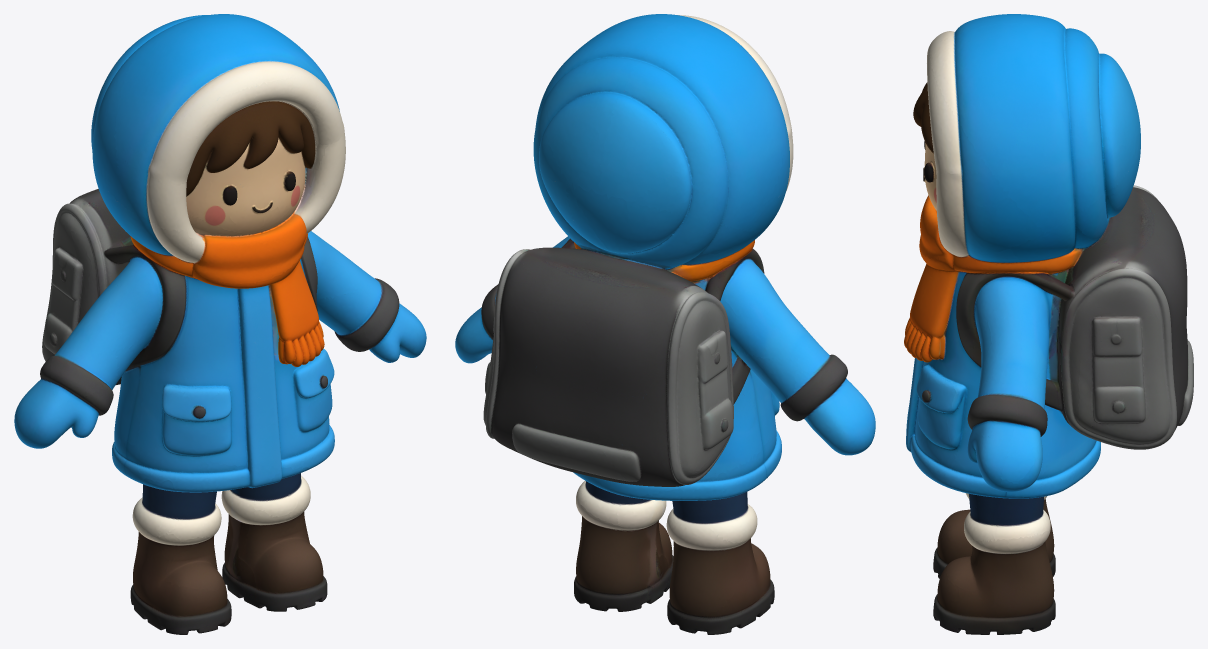
File: character_model.glb
The picture shows the model from 3 angles, left to right: view 1: azimuth 30°, elevation 25°; view 2: azimuth 150°, elevation 25°; view 3: azimuth 270°, elevation 25°; orthographic projection. The views are drawn at different scales.
Bounding box in the file's own units: 1.4 × 1.9 × 0.8759.
Materials: 1 (1 with a texture image).
